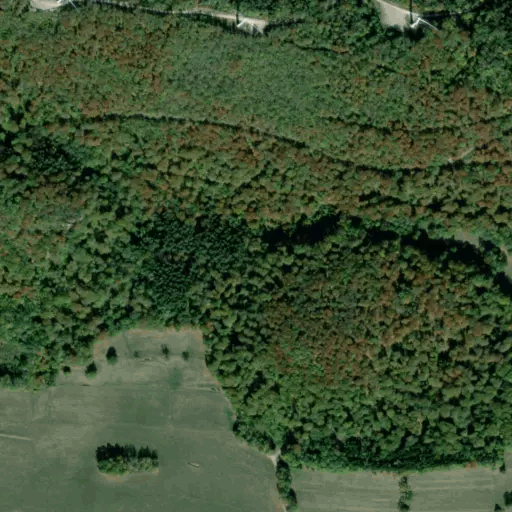wt: (397, 1, 440, 38), (223, 1, 263, 34)
